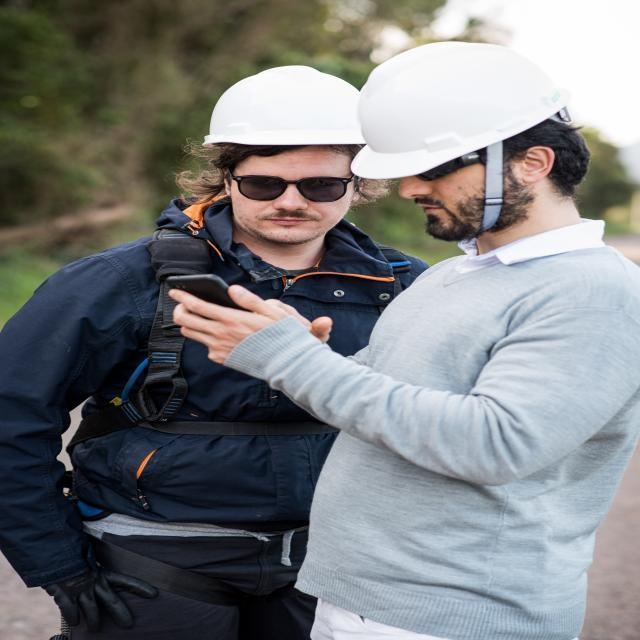Arnes_seguridad: (61, 221, 414, 630)
